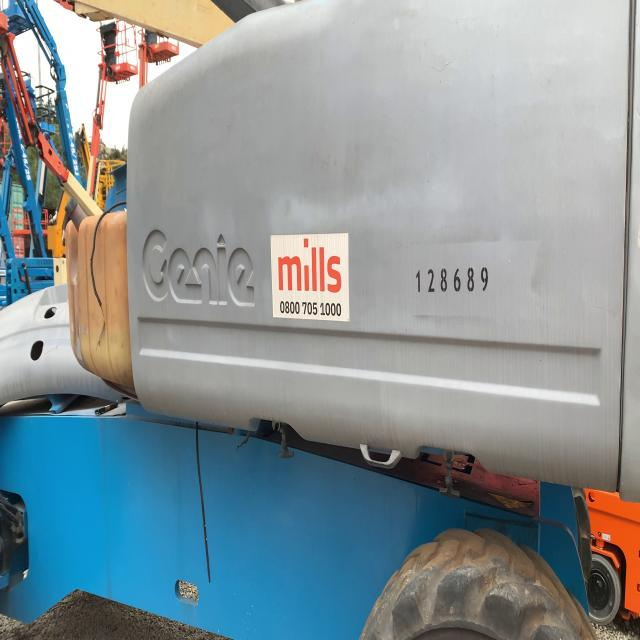Adesivos: (269, 231, 350, 322)
